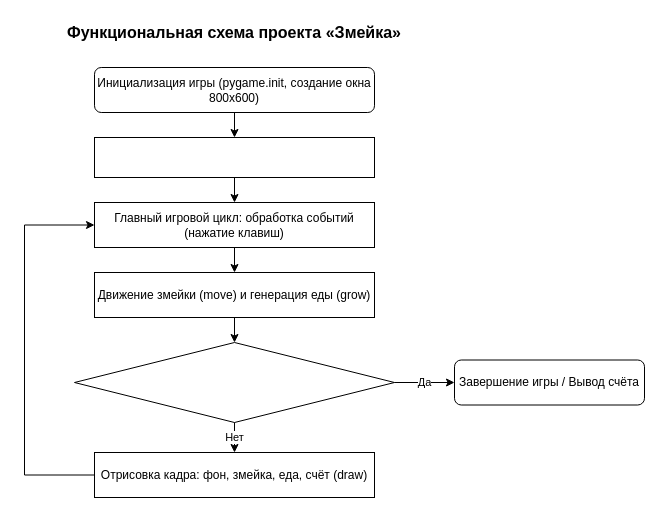
Image size: 662x515. Some labels were removed from this diagram. Here are the shapes that lost their labels. From the top down, the centre of each, then its label:
(x=234, y=157): Создание объектов Snake и Food
(x=234, y=382): Проверка столкновений со стенами и с собой (collide_with_self)
